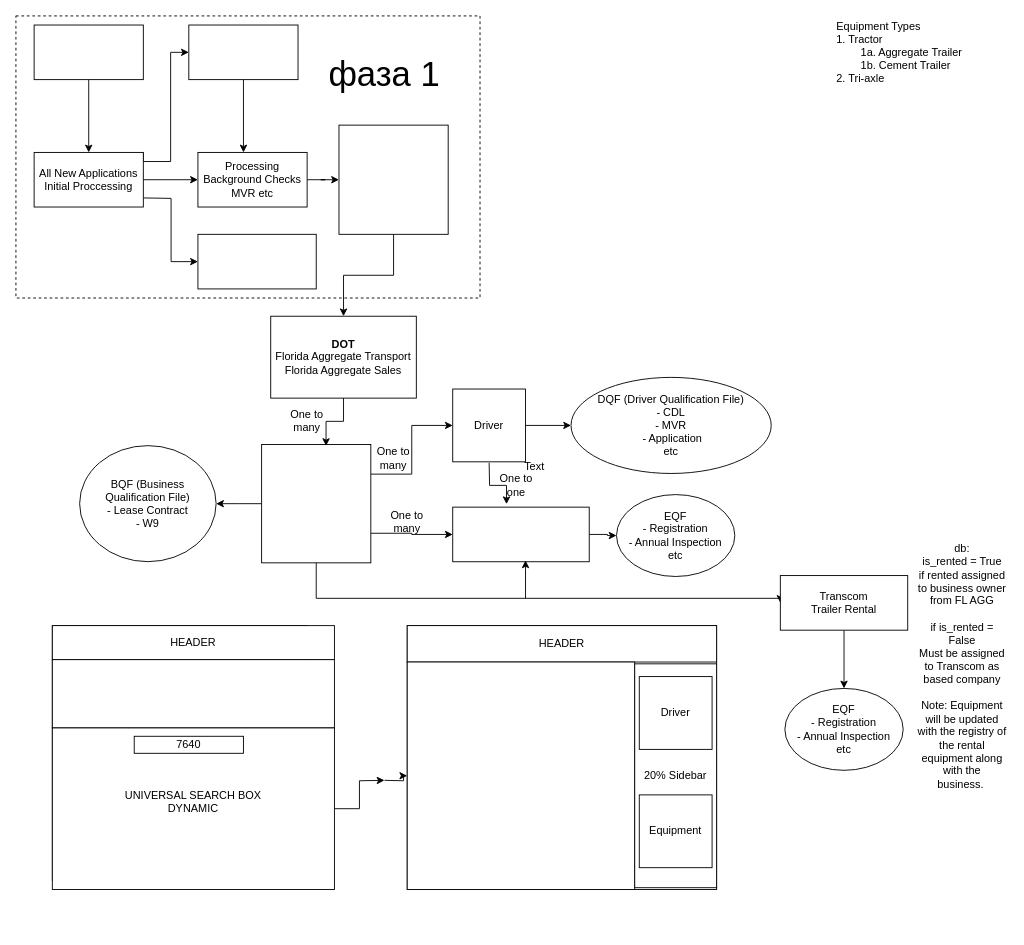
This 1024x945 diagram has some shape labels left out. Each missing label, with the centre of its shape:
"80% Main Content" belongs at point 520,775.
"Active entity Entities: 1. Business Owner 2. Driver 3. Equipment" belongs at point 393,179.
"Business/Owner or Owner Operator" belongs at point 316,503.
"Equipment Tractor-Trailer or Tri-Axle" belongs at point 520,534.
"KPI" belongs at point 192,693.
"New Application Form" belongs at point 88,52.
"Not Qualify applicants - Potential applications with errors." belongs at point 256,261.
"Waiting List Potential Candidates" belongs at point 243,52.
